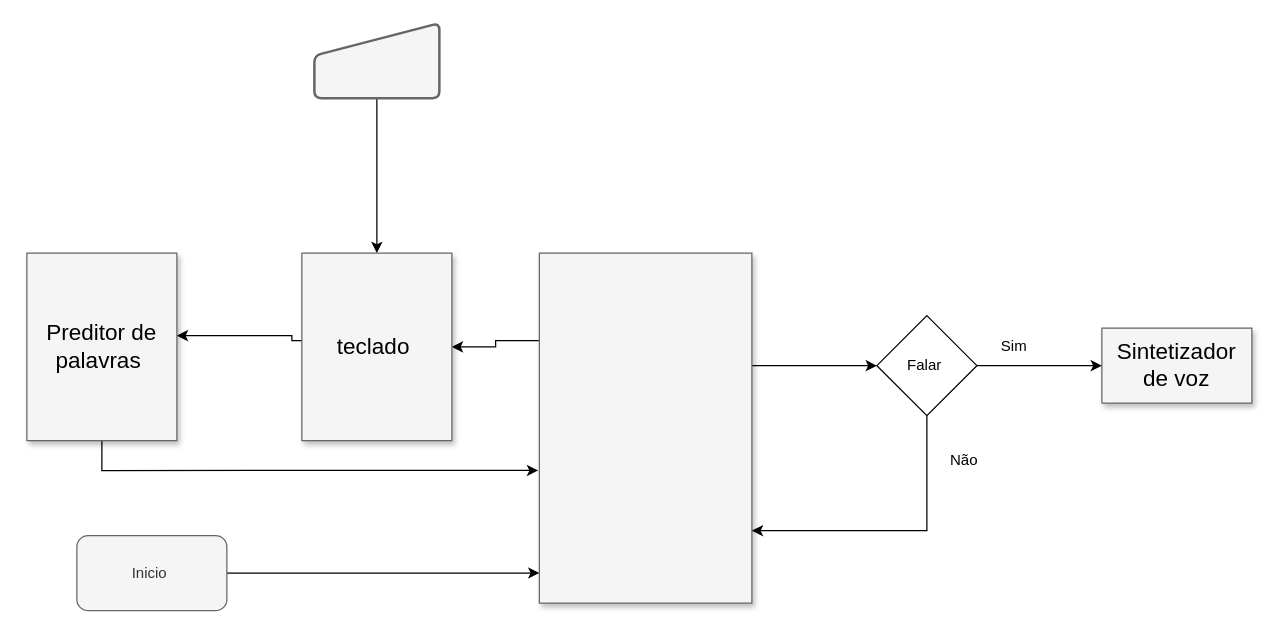
The diagram is 1281 pixels wide and 634 high, and some of its shapes have lost their labels. The shapes that lost their labels are listed below. From the top down, each one's centre as x and y in pixels, then its label:
At [376,60]: "Palavra".
At [646,429]: "Editor de texto".
